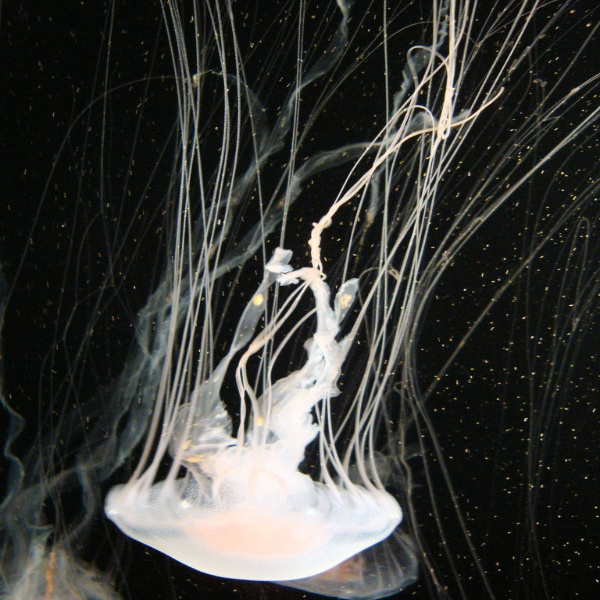Jellyfish: (1, 0, 599, 599)
